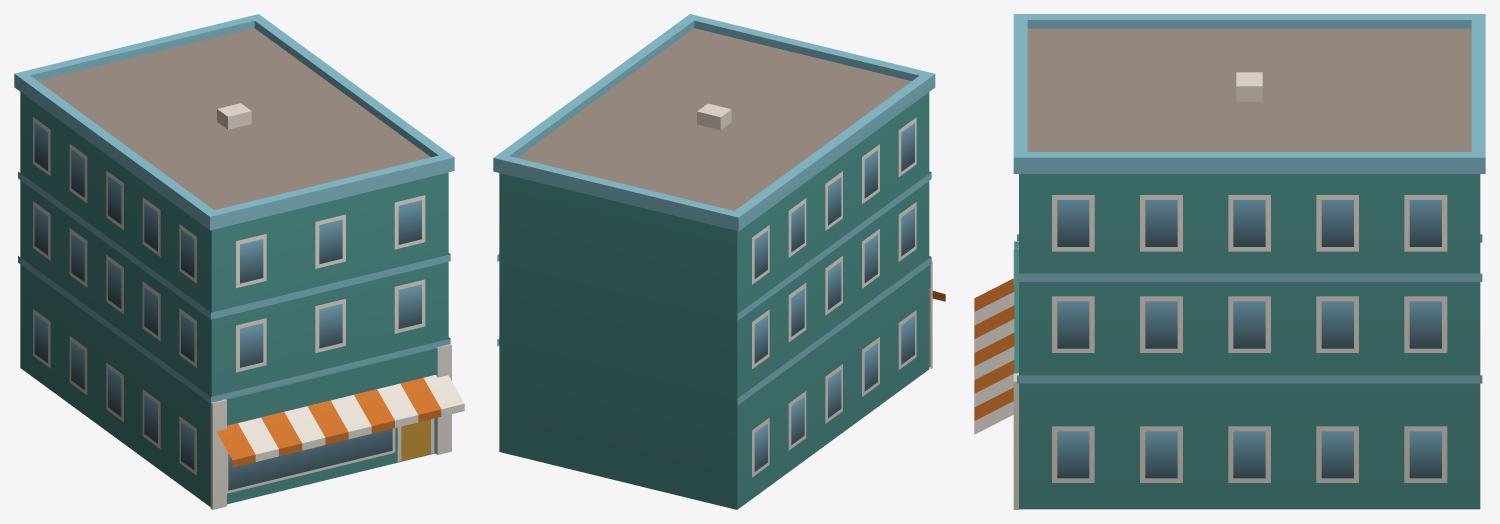
Rendered from boylston_s20_far.glb.
The picture shows the model from 3 angles, left to right: view 1: azimuth 30°, elevation 25°; view 2: azimuth 150°, elevation 25°; view 3: azimuth 270°, elevation 25°; orthographic projection. The views are drawn at different scales.
Visible parts, largest first — view 1: boylston_s20_far; view 2: boylston_s20_far; view 3: boylston_s20_far.
Part boxes in pixels (box(x1,y1,x2,y2)): boylston_s20_far: box(14, 14, 464, 509); boylston_s20_far: box(493, 14, 945, 509); boylston_s20_far: box(974, 14, 1485, 509).
Bounding box in the file's own units: 10.32 × 12.07 × 15.51.
Materials: 1 (1 with a texture image).
